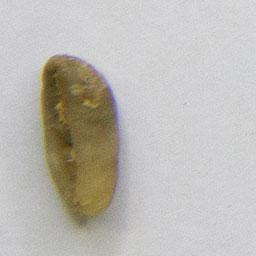longberry: (36, 51, 123, 222)
